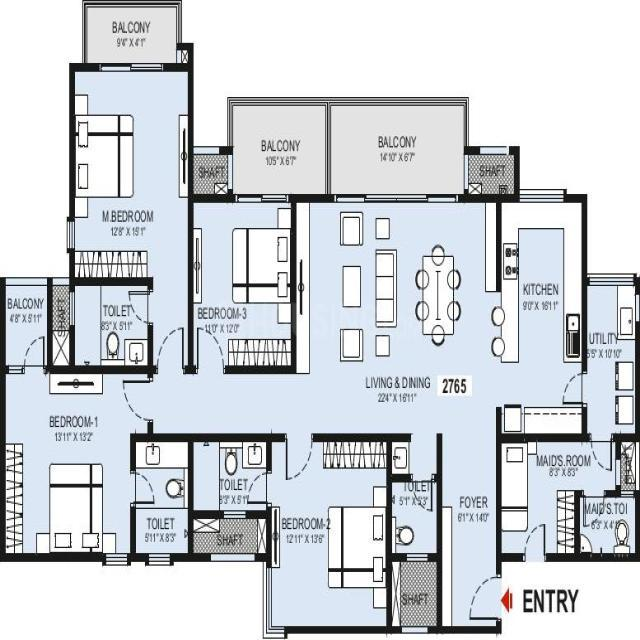Balcony-Sitout: (327, 97, 469, 197), (228, 99, 330, 198), (83, 0, 182, 66), (0, 276, 51, 373)
Bedroom: (268, 433, 390, 636), (188, 193, 297, 373), (496, 432, 618, 561)
Bedroom with Toilet: (65, 57, 193, 371), (4, 370, 190, 557)
Dining: (413, 239, 467, 356)
Enterance-Foyer: (441, 433, 502, 634)
Kitchen: (498, 194, 587, 439)
Living: (291, 196, 411, 434)
Toilet: (131, 440, 193, 554), (190, 432, 270, 511), (74, 286, 150, 369), (386, 474, 443, 560), (574, 490, 640, 559)
Utility: (584, 274, 639, 441)
